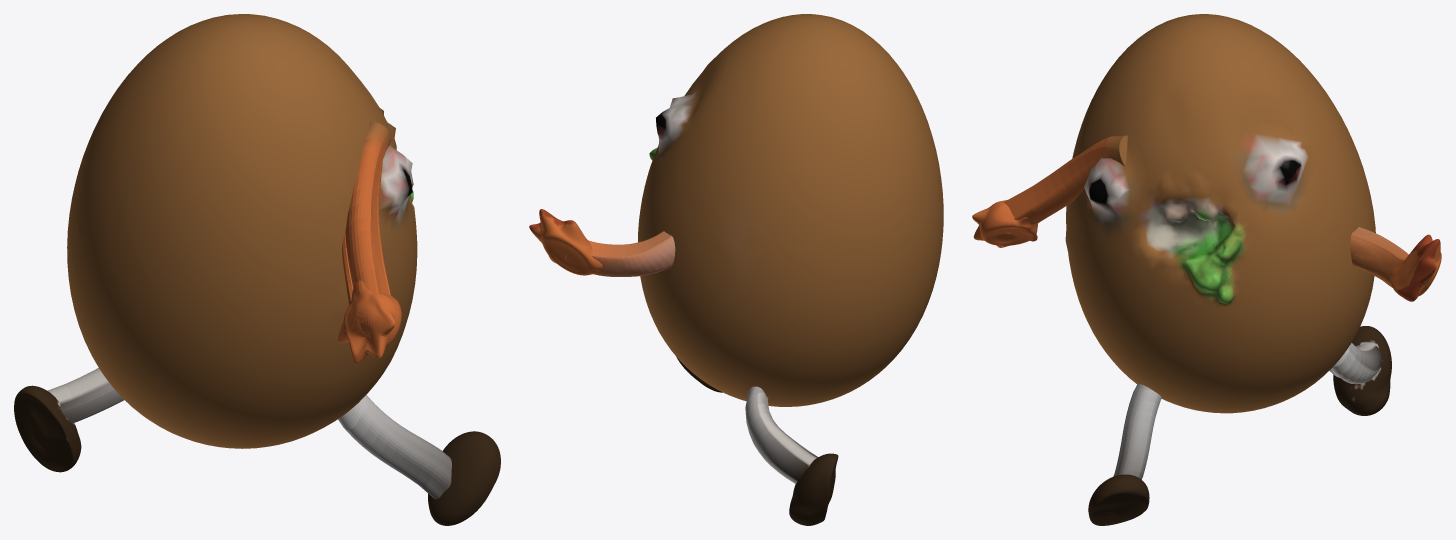
File: brownegg.glb
3 views of the same model, side by side, from view 1: azimuth 30°, elevation 25°; view 2: azimuth 150°, elevation 25°; view 3: azimuth 270°, elevation 25° (orthographic). The views are drawn at different scales.
Parts seen in each view (by area): view 1: egg body, egg right leg, egg right arm, egg left leg; view 2: egg body, egg left leg, egg left arm; view 3: egg body, egg right arm, egg right leg, egg left arm, egg left leg.
Part boxes in pixels (box(x1,y1,x2,y2)): egg body: box(67, 14, 417, 448); egg right leg: box(338, 395, 500, 525); egg right arm: box(338, 121, 401, 364); egg left leg: box(14, 368, 123, 472); egg body: box(638, 14, 943, 406); egg left leg: box(745, 386, 838, 525); egg left arm: box(529, 209, 675, 276); egg body: box(1065, 14, 1375, 413); egg right arm: box(972, 135, 1127, 247); egg right leg: box(1088, 383, 1161, 525); egg left arm: box(1350, 227, 1441, 301); egg left leg: box(1329, 326, 1391, 415).
Bounding box in the file's own units: 3.31 × 4.54 × 4.4.
